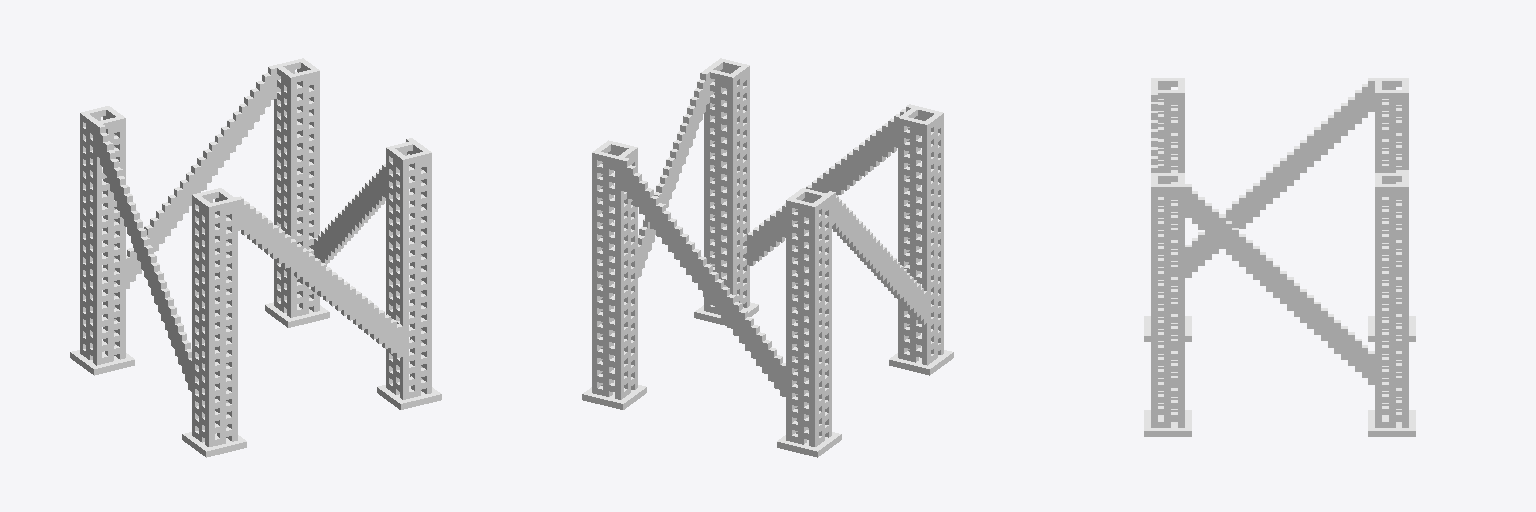
The model's file is ring_pillar.obj.
3 renders of one model, left to right at view 1: azimuth 30°, elevation 25°; view 2: azimuth 150°, elevation 25°; view 3: azimuth 270°, elevation 25°, orthographic.
Parts seen in each view (by area): view 1: object 1; view 2: object 1; view 3: object 1.
Part boxes in pixels (left/top/right/bottom): object 1: left=70, top=58, right=441, bottom=457; object 1: left=582, top=58, right=953, bottom=457; object 1: left=1144, top=78, right=1415, bottom=436.
Size of the model in its own units: 4 by 4 by 4.